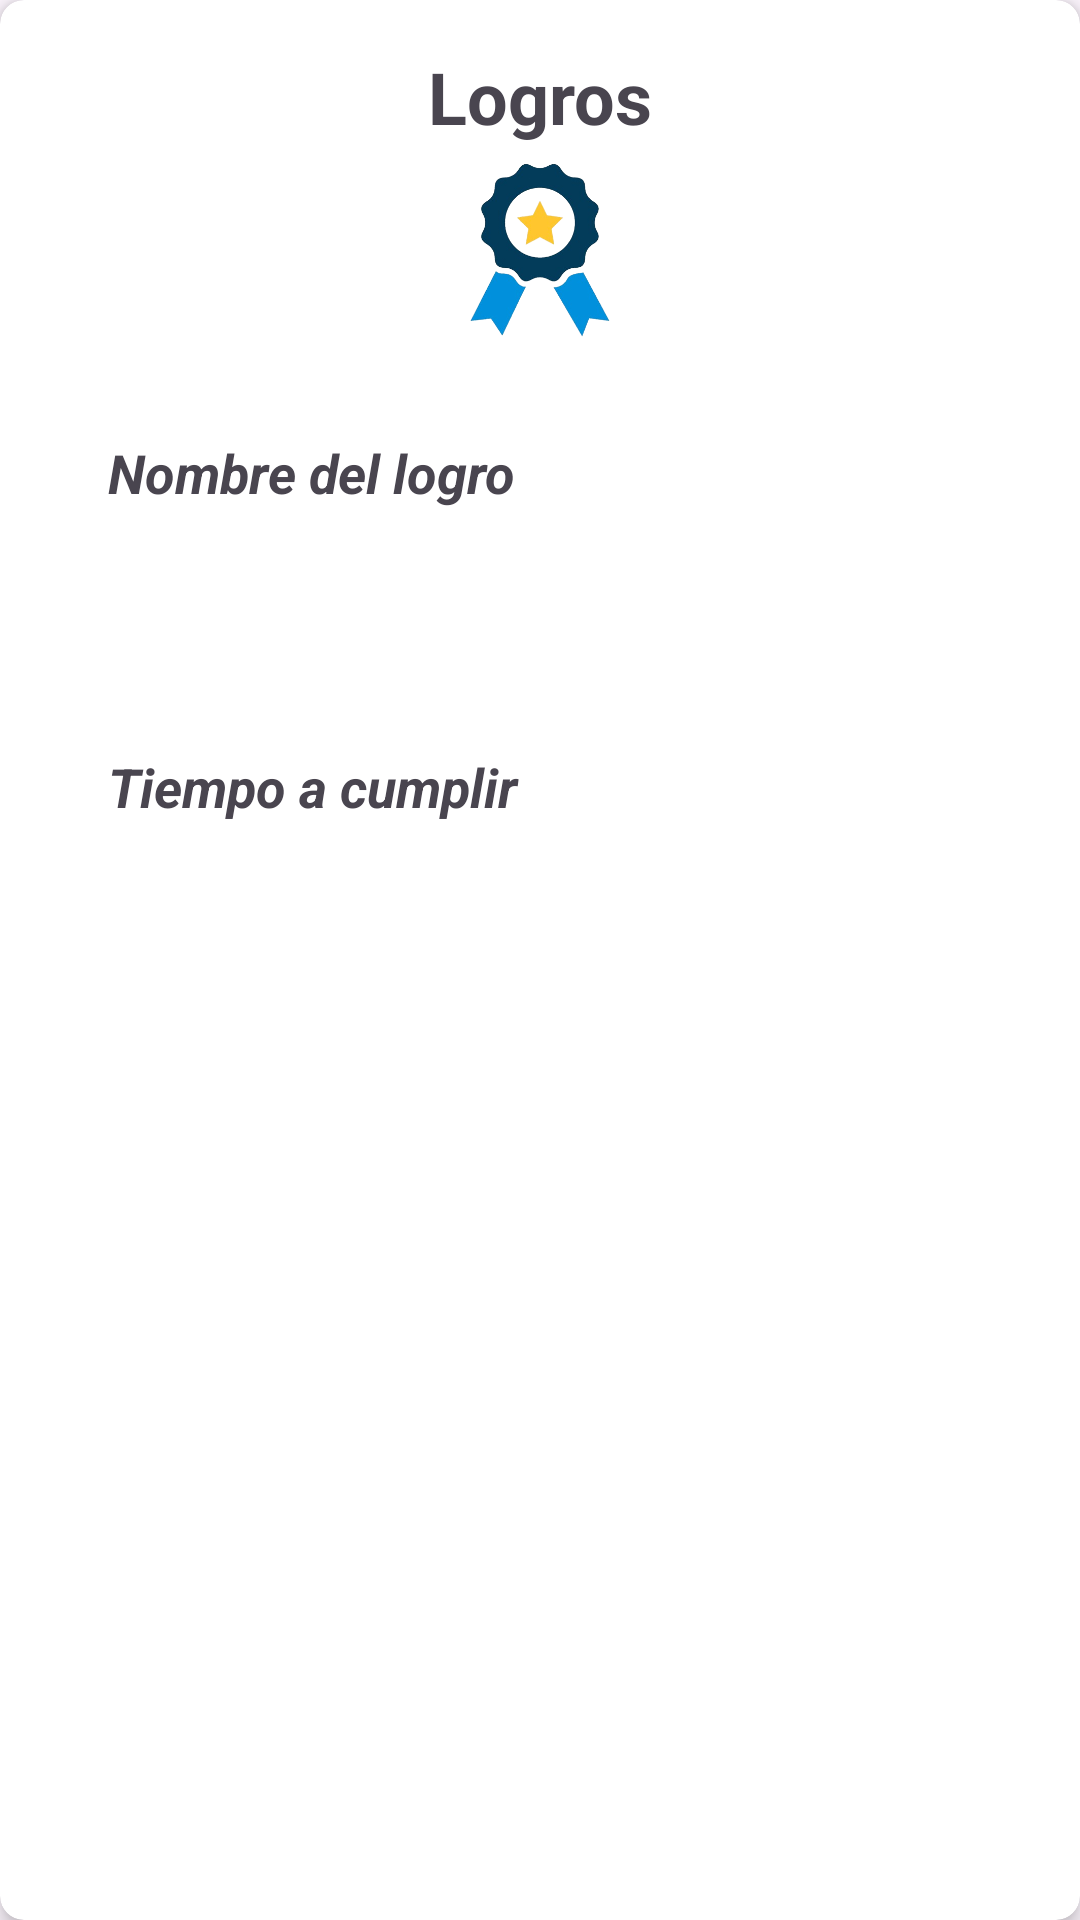

Screen size 1080*1920. Icon name, then its box in pixels as BBox(x1, y1, x2, y2):
medalla: BBox(470, 164, 609, 336)
